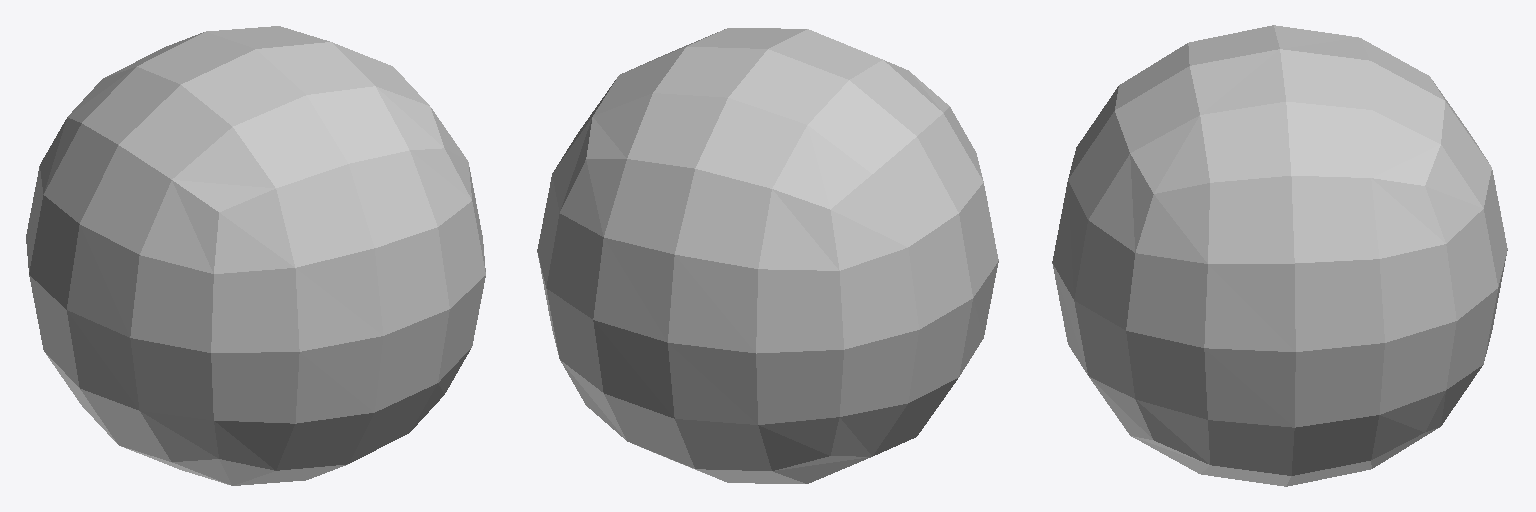
The model's file is Cobra-olhoE.obj.
3 renders of one model, left to right at view 1: azimuth 30°, elevation 25°; view 2: azimuth 150°, elevation 25°; view 3: azimuth 270°, elevation 25°, orthographic.
Parts seen in each view (by area): view 1: Cobra-olhoE_Cubo.011; view 2: Cobra-olhoE_Cubo.011; view 3: Cobra-olhoE_Cubo.011.
Boxes of the visible parts, x1=… form: Cobra-olhoE_Cubo.011: x1=26, y1=26, x2=485, y2=485; Cobra-olhoE_Cubo.011: x1=537, y1=28, x2=998, y2=483; Cobra-olhoE_Cubo.011: x1=1052, y1=25, x2=1507, y2=486.
Size of the model in its own units: 0.1827 by 0.1831 by 0.1827.